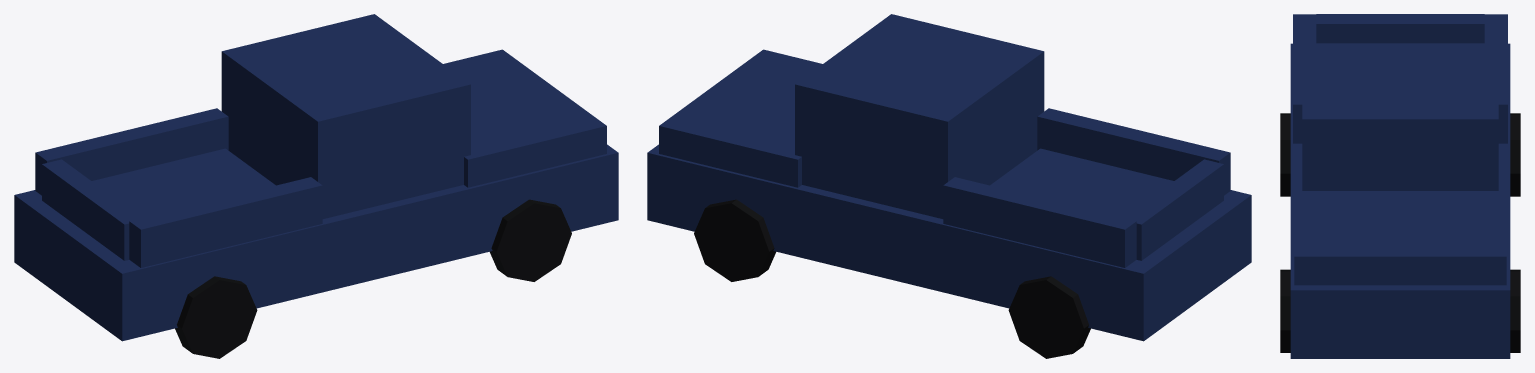
The model's file is proxy_pickup_blue.dae.
3 views of the same model, side by side, from view 1: azimuth 30°, elevation 25°; view 2: azimuth 150°, elevation 25°; view 3: azimuth 270°, elevation 25° (orthographic).
Parts seen in each view (by area): view 1: proxy_pickup; view 2: proxy_pickup; view 3: proxy_pickup.
Part boxes in pixels (x1,y1,x2,y2): proxy_pickup: (14, 14, 618, 358); proxy_pickup: (647, 14, 1251, 358); proxy_pickup: (1280, 14, 1520, 358).
Bounding box in the file's own units: 5 × 2.06 × 1.95.
